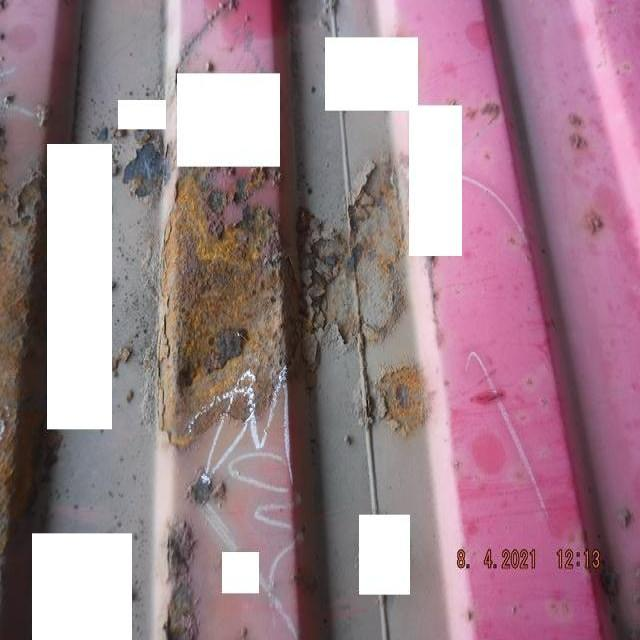rust: (155, 168, 302, 445), (306, 156, 413, 361), (2, 176, 48, 562), (376, 356, 433, 437), (165, 521, 201, 640), (119, 143, 168, 207), (186, 466, 229, 509)
